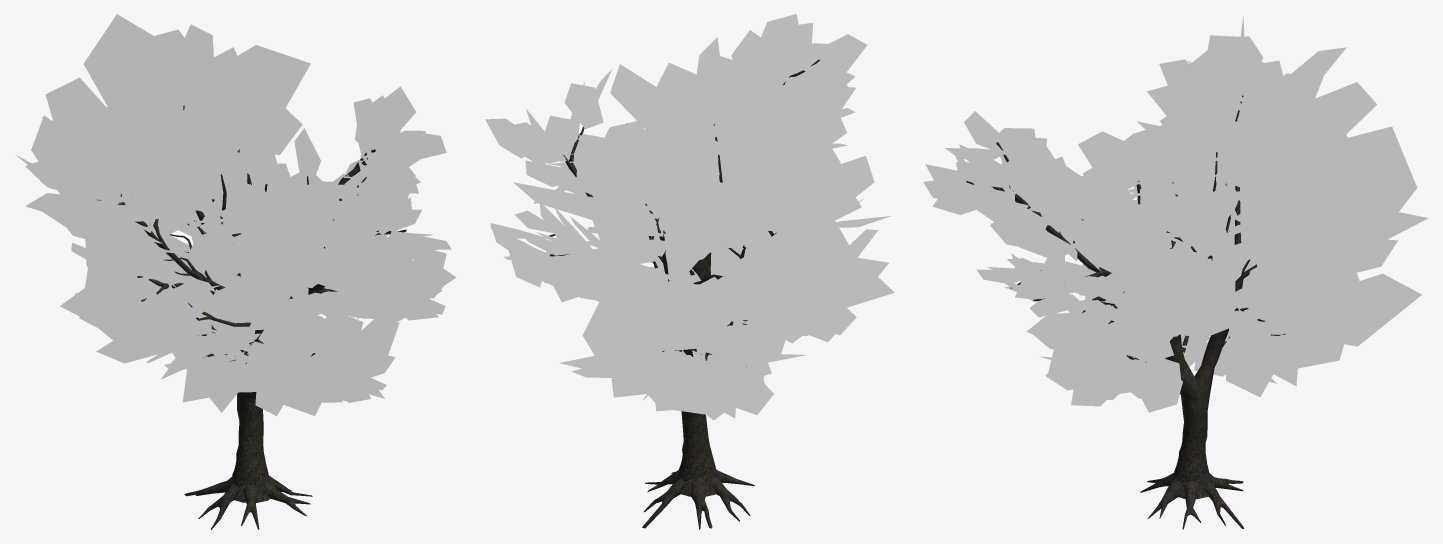
File: large_oak.DAE
3 views of the same model, side by side, from view 1: azimuth 30°, elevation 25°; view 2: azimuth 150°, elevation 25°; view 3: azimuth 270°, elevation 25° (orthographic). The views are drawn at different scales.
Parts seen in each view (by area): view 1: Object401, large_oak_test_01_Bark; view 2: Object401, large_oak_test_01_Bark; view 3: Object401, large_oak_test_01_Bark.
Boxes of the visible parts, bbox=[...] form: Object401: bbox=[15, 14, 456, 416]; large_oak_test_01_Bark: bbox=[97, 105, 406, 529]; Object401: bbox=[485, 14, 894, 420]; large_oak_test_01_Bark: bbox=[549, 59, 819, 529]; Object401: bbox=[923, 16, 1428, 412]; large_oak_test_01_Bark: bbox=[966, 95, 1285, 529].
Bounding box in the file's own units: 20.1 × 24.4 × 23.92.
